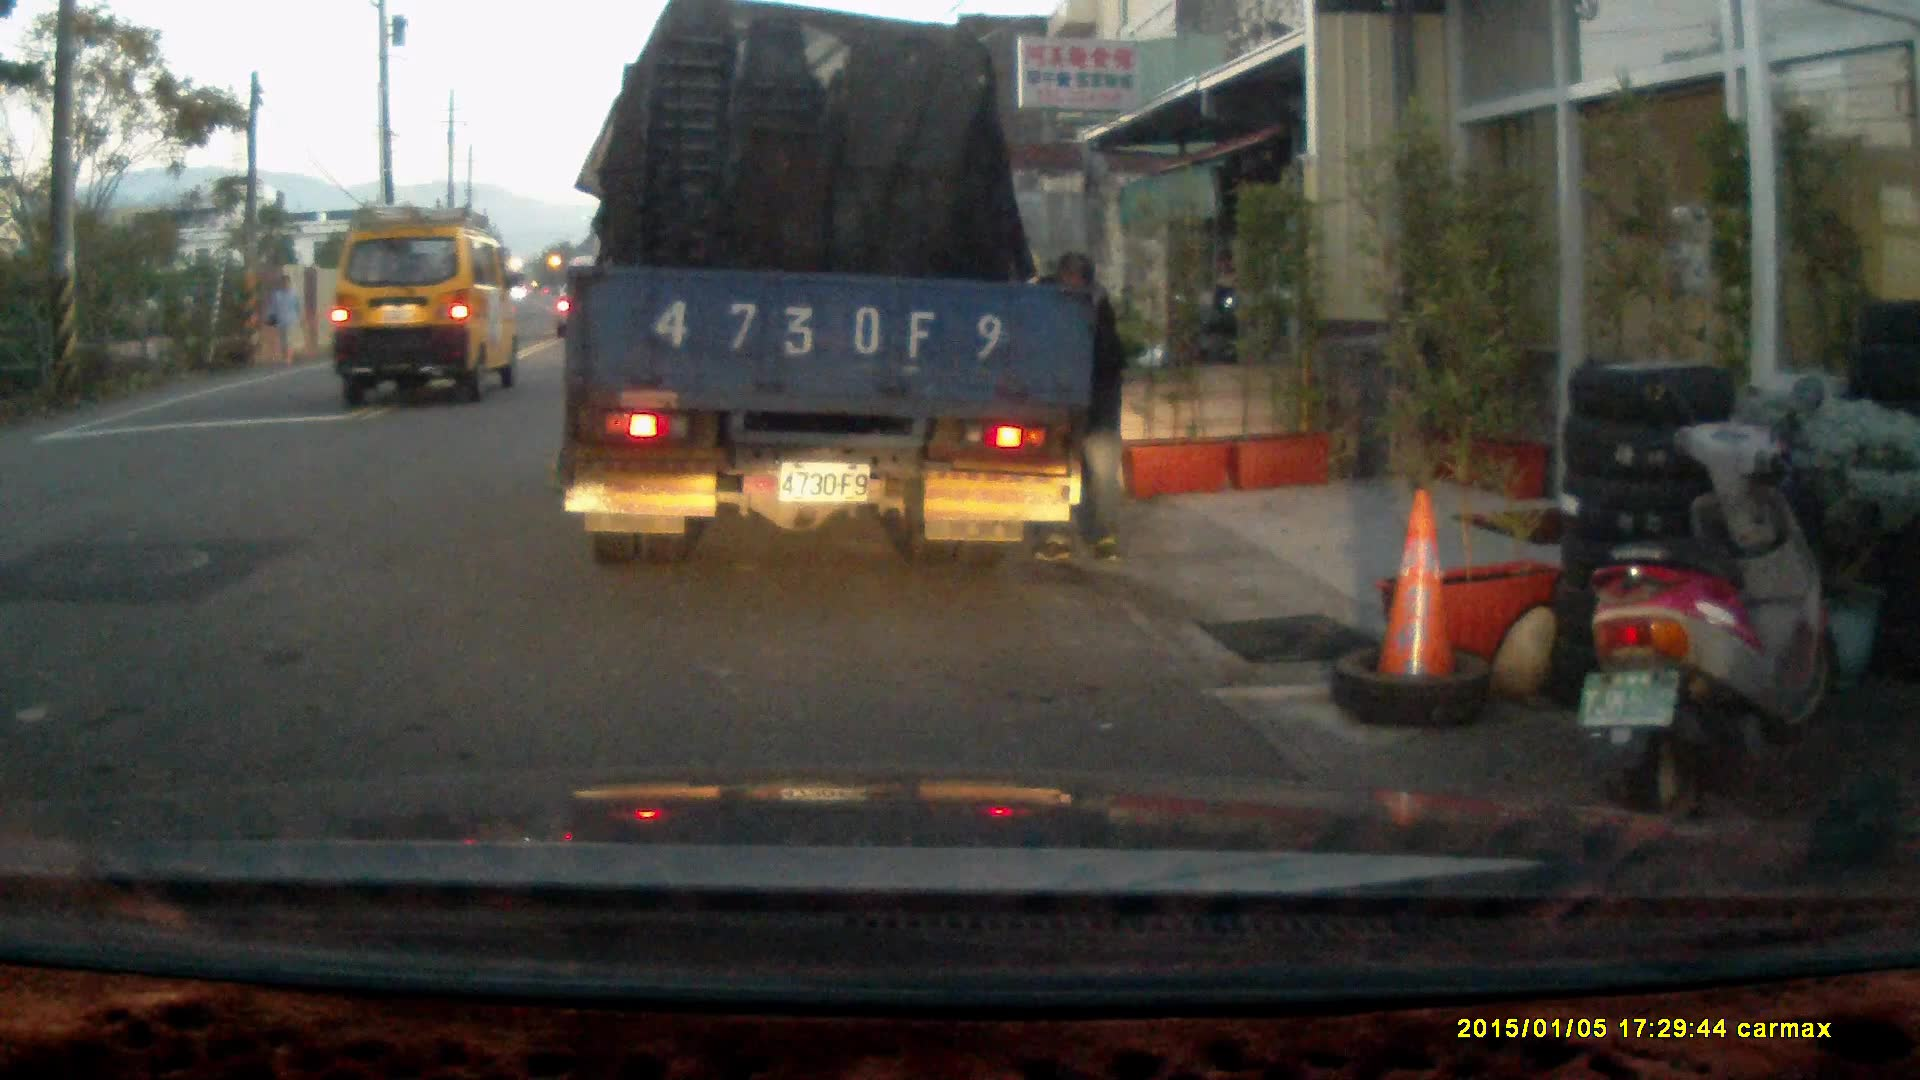pedestrian: (1020, 249, 1127, 568), (262, 276, 301, 368)
vehicle: (564, 24, 1092, 565), (327, 204, 527, 408)
